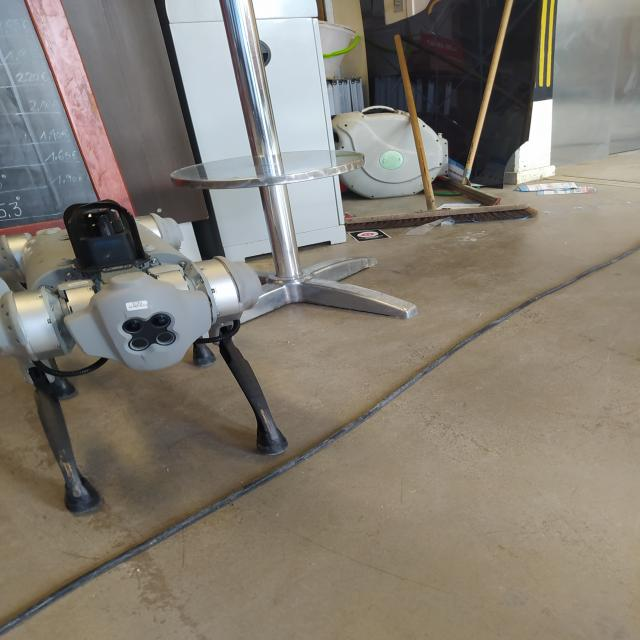unitree-go1-robot: (0, 183, 305, 528)
